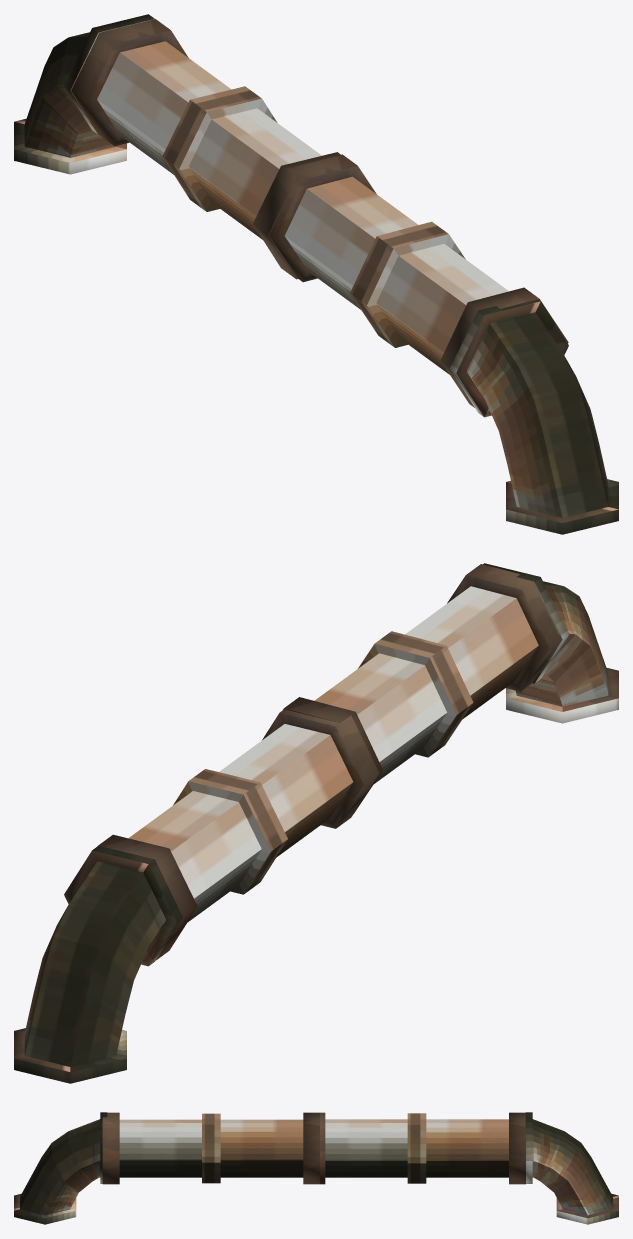
Rendered from pipes_l_1.fbx.
3 views of the same model, one above another, from view 1: azimuth 30°, elevation 25°; view 2: azimuth 150°, elevation 25°; view 3: azimuth 270°, elevation 25° (orthographic). The views are drawn at different scales.
Visible parts, largest first — view 1: CurveSmallOpen.014; view 2: CurveSmallOpen.014; view 3: CurveSmallOpen.014.
Part boxes in pixels (left/top/right/bottom): CurveSmallOpen.014: left=14, top=14, right=618, bottom=534; CurveSmallOpen.014: left=14, top=563, right=618, bottom=1083; CurveSmallOpen.014: left=14, top=1112, right=618, bottom=1224.
Size of the model in its own units: 62.64 by 85.13 by 519.
